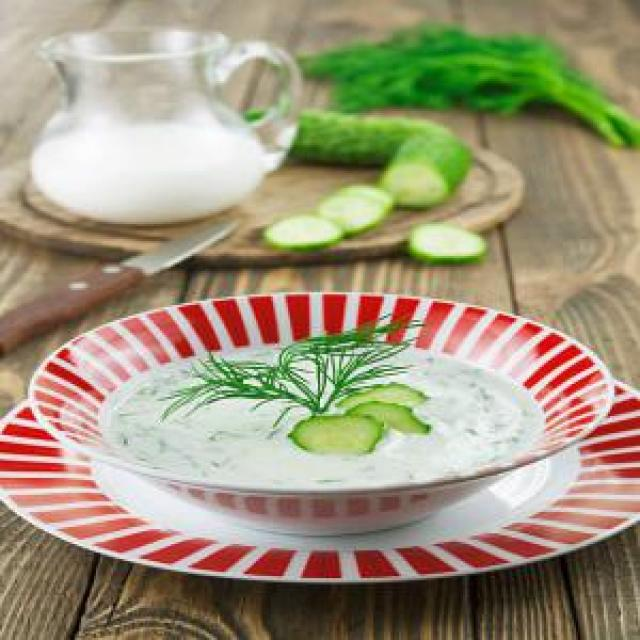knife: (0, 215, 252, 350)
